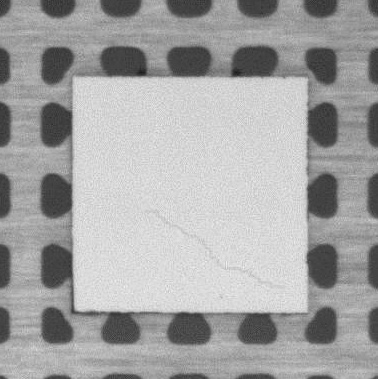DIE_CRACK: (145, 206, 285, 290)
